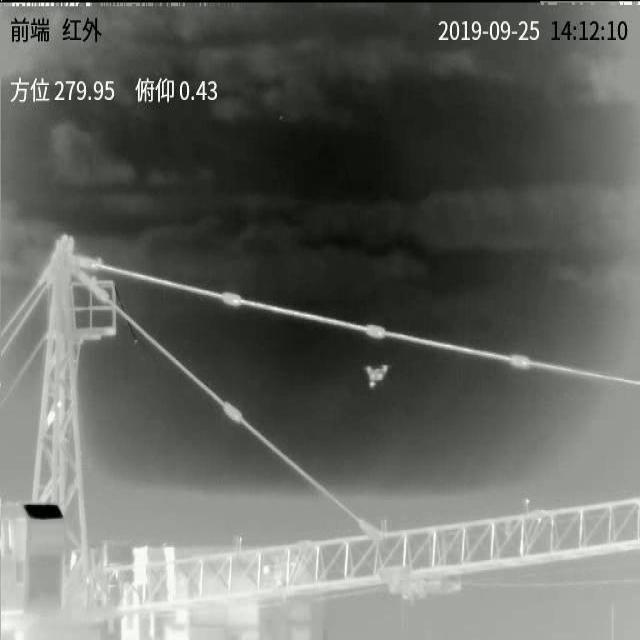drone: (363, 364, 389, 388)
